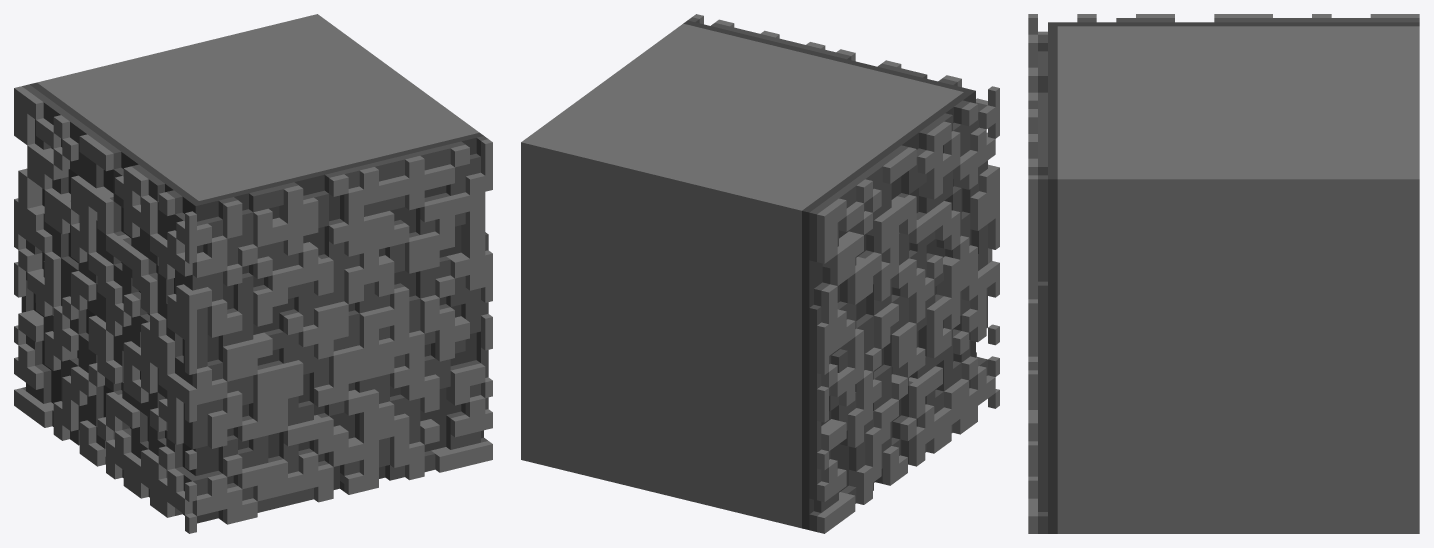
File: untitled.vox.obj
The picture shows the model from 3 angles, left to right: view 1: azimuth 30°, elevation 25°; view 2: azimuth 150°, elevation 25°; view 3: azimuth 270°, elevation 25°; orthographic projection. The views are drawn at different scales.
Bounding box in the file's own units: 4 × 4 × 4.
1 material, 1 textured.
